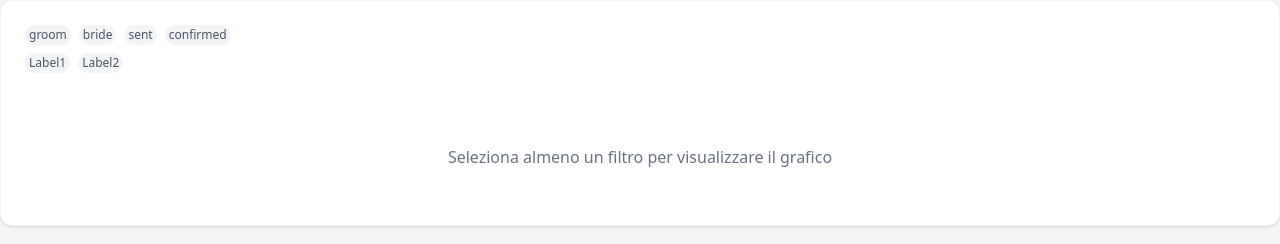
Test case: DynamicPieChart Component › handles API error gracefully
What coordinates should you click on to do the following:
click the button "groom"
I would click on:
 (48, 35)
Its box is x1=25 y1=25 x2=71 y2=45.
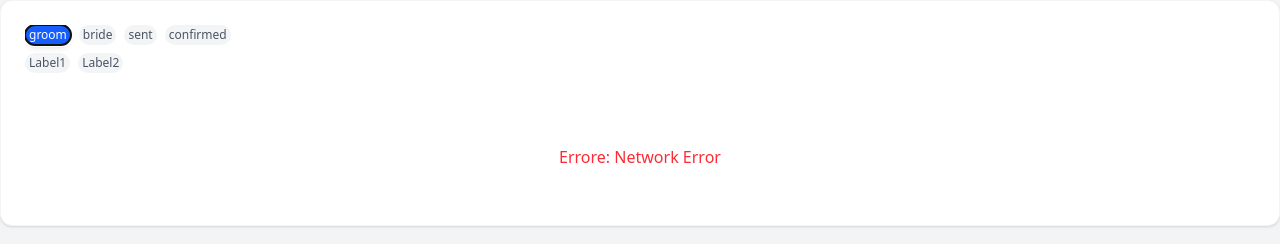
Now the text "Errore: Network Error" is shown, box x1=559 y1=146 x2=721 y2=168
